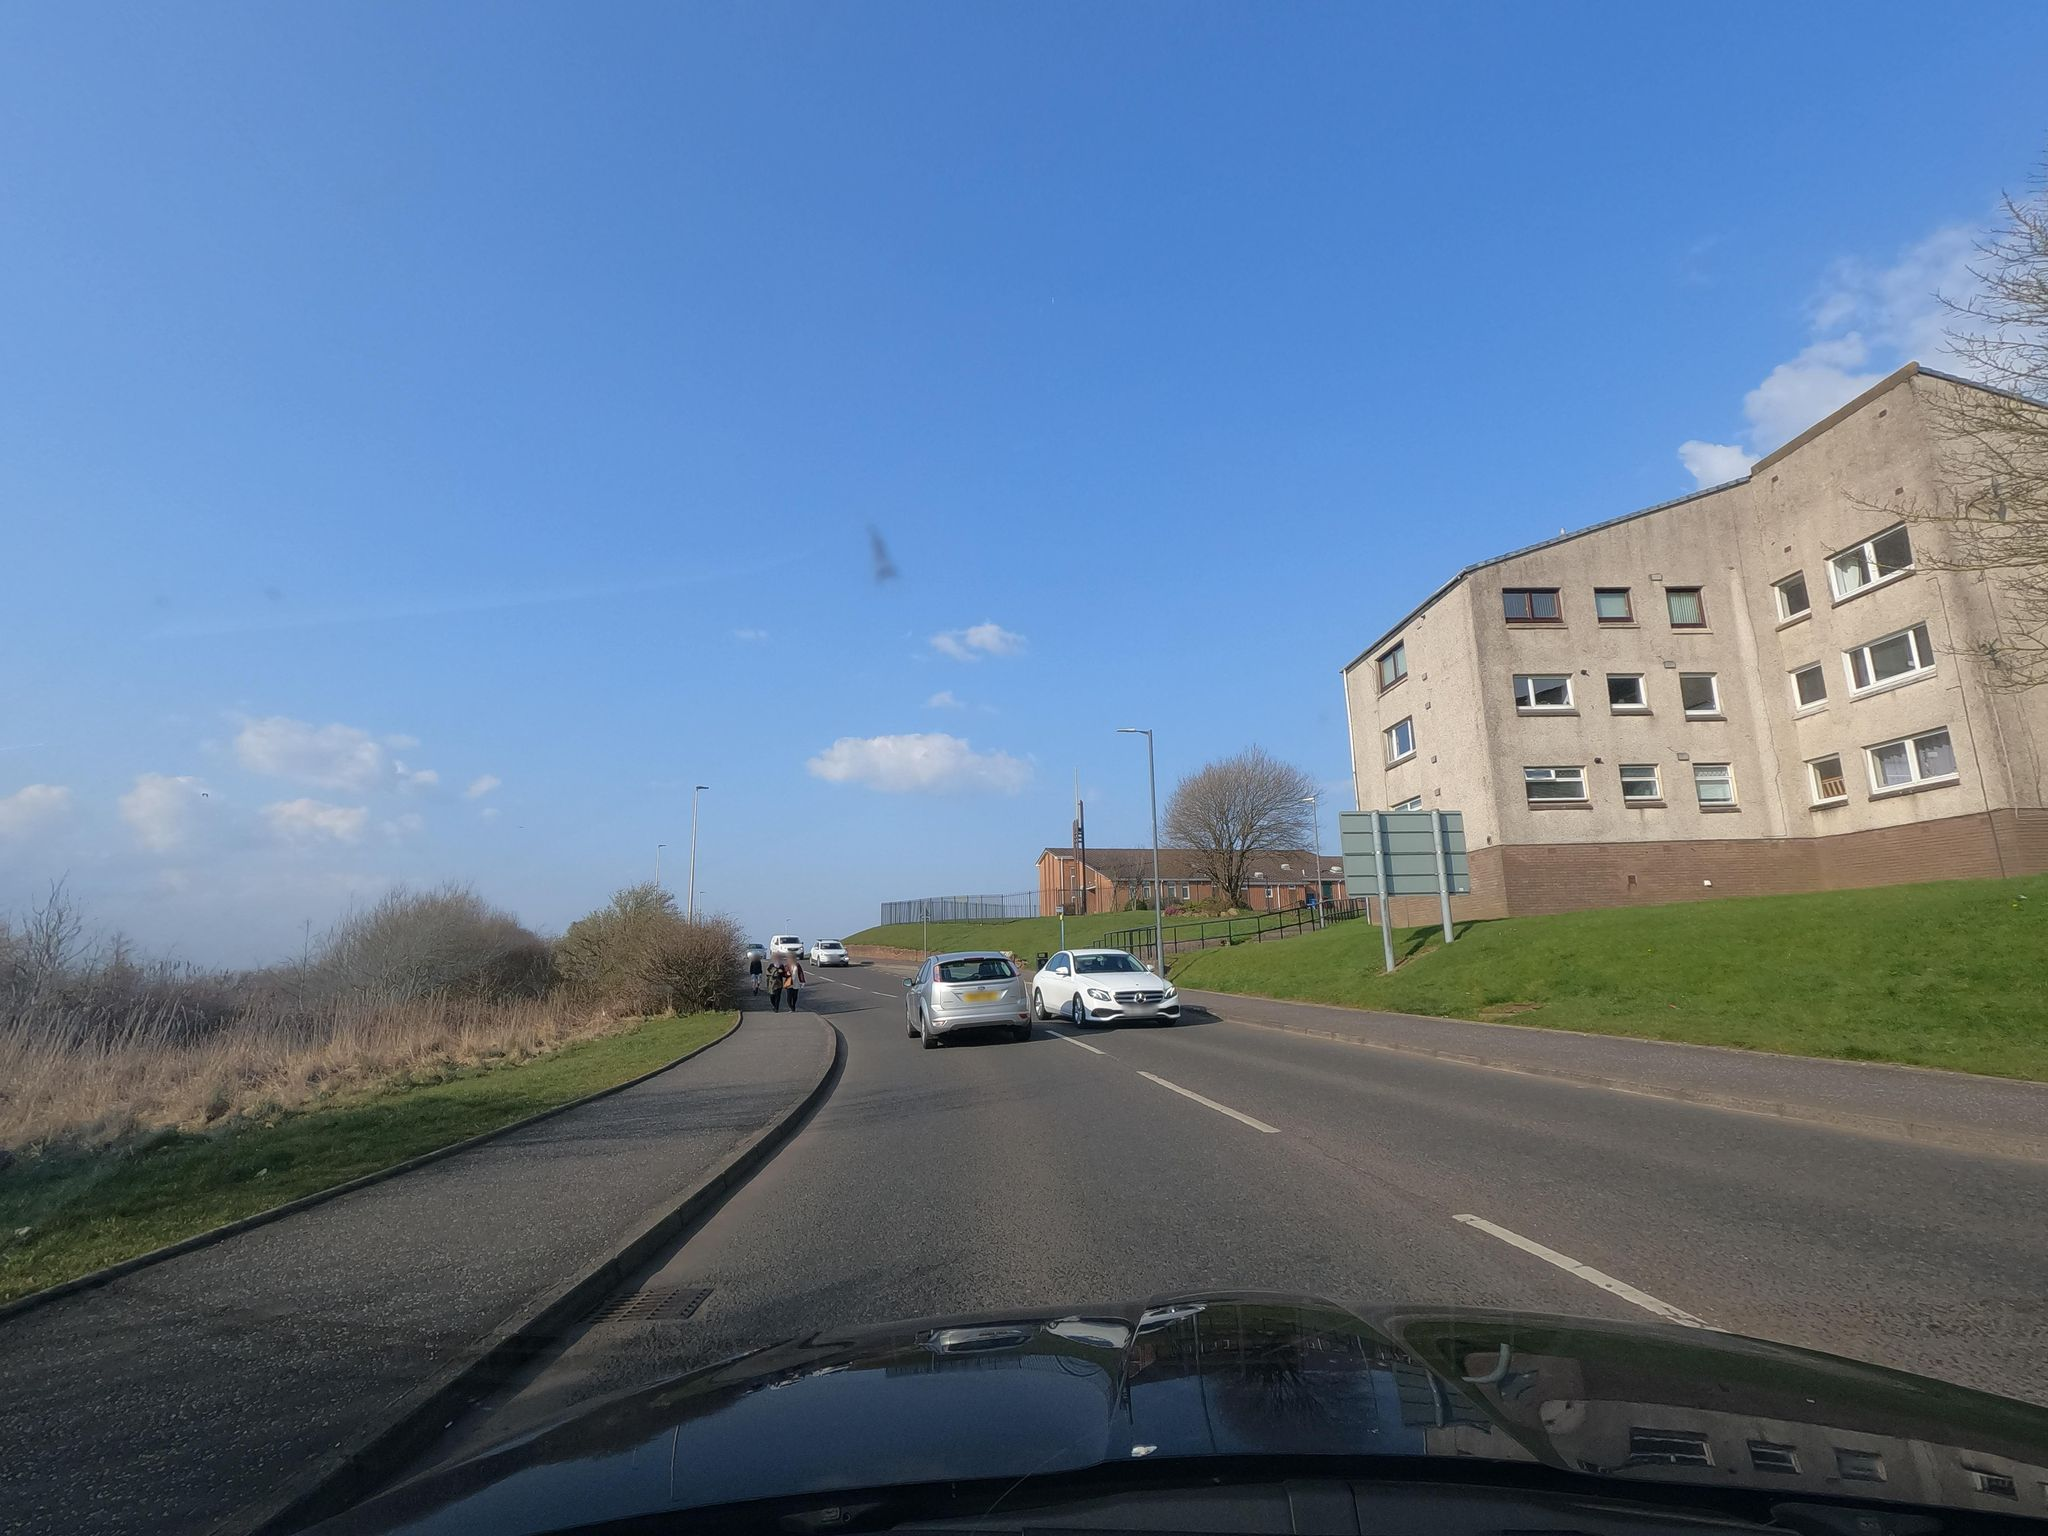car: (901, 950, 1032, 1049), (1032, 949, 1180, 1028), (808, 937, 848, 966), (768, 934, 803, 960), (745, 942, 768, 958)
